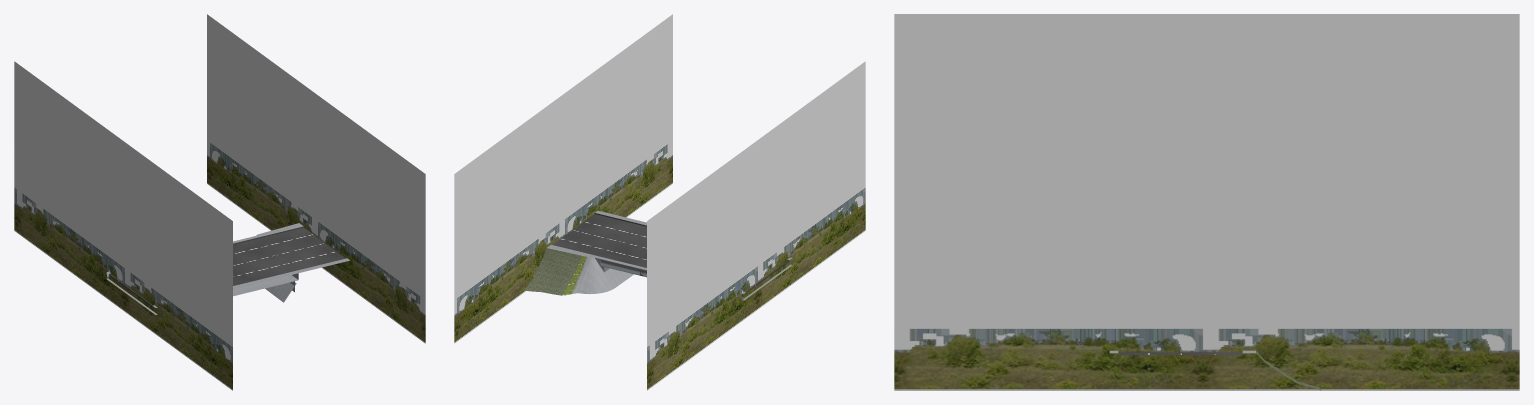
File: rock2.FBX
The picture shows the model from 3 angles, left to right: view 1: azimuth 30°, elevation 25°; view 2: azimuth 150°, elevation 25°; view 3: azimuth 270°, elevation 25°; orthographic projection. The views are drawn at different scales.
Visible parts, largest first — view 1: skyFoliage, m7; view 2: skyFoliage, m7; view 3: skyFoliage, m7.
Part boxes in pixels (box(x1,y1,x2,y2)): skyFoliage: box(14, 14, 425, 390); m7: box(106, 223, 349, 314); skyFoliage: box(454, 14, 865, 390); m7: box(524, 210, 792, 300); skyFoliage: box(894, 14, 1519, 390); m7: box(1109, 350, 1320, 390).
Size of the model in its own units: 7220 by 5889 by 13765.
